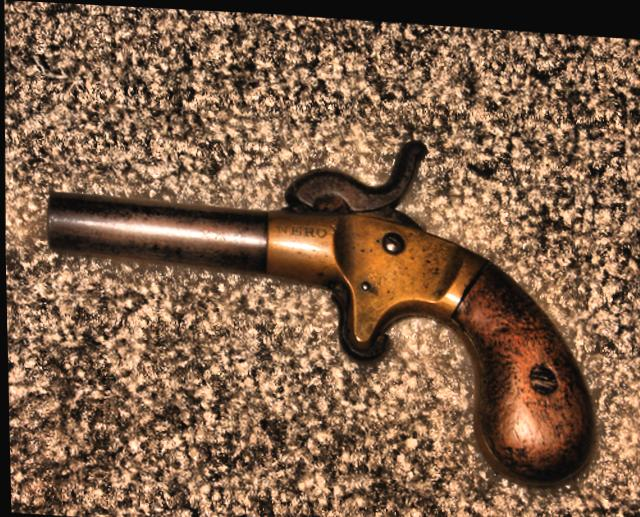pistol: (33, 111, 594, 480)
